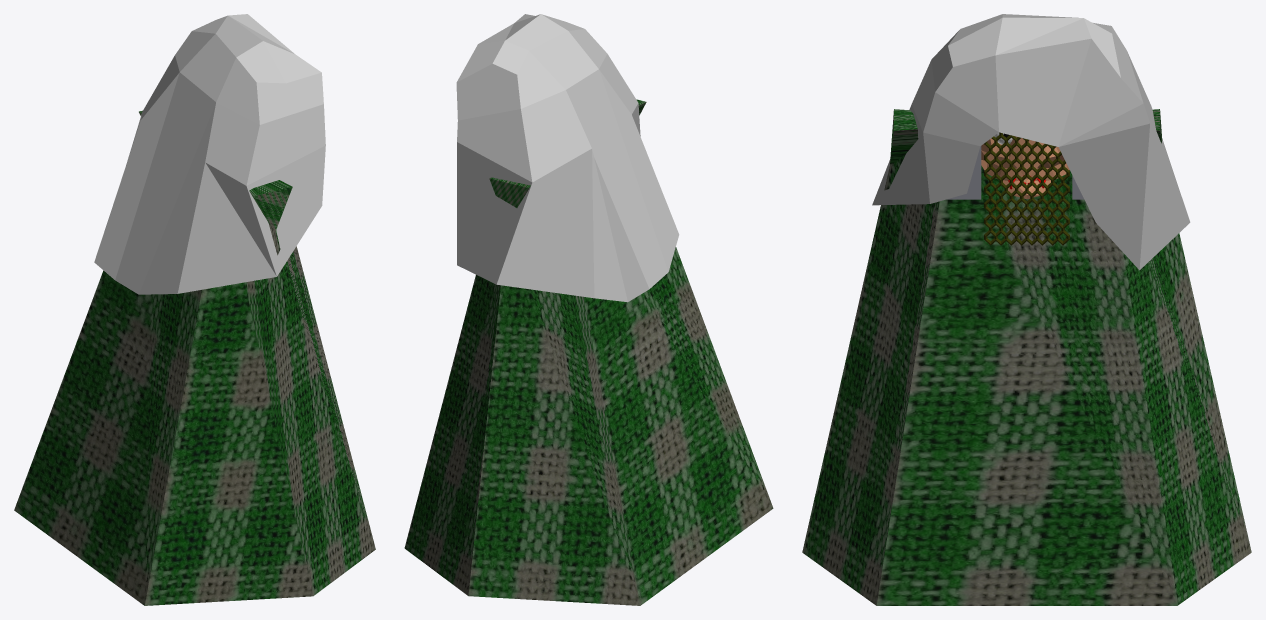
The model's file is Vieja.fbx.
The picture shows the model from 3 angles, left to right: view 1: azimuth 30°, elevation 25°; view 2: azimuth 150°, elevation 25°; view 3: azimuth 270°, elevation 25°; orthographic projection. The views are drawn at different scales.
Parts seen in each view (by area): view 1: Poncho, Gorro; view 2: Poncho, Gorro; view 3: Poncho, Gorro, Reja, Cabeza, Pelo.
Boxes of the visible parts, bbox=[...] form: Poncho: bbox=[14, 110, 375, 605]; Gorro: bbox=[94, 14, 325, 294]; Poncho: bbox=[404, 99, 773, 605]; Gorro: bbox=[456, 14, 679, 302]; Poncho: bbox=[802, 109, 1251, 605]; Gorro: bbox=[872, 14, 1190, 270]; Reja: bbox=[984, 132, 1069, 245]; Cabeza: bbox=[981, 136, 1069, 199]; Pelo: bbox=[946, 146, 1084, 199].
Bounding box in the file's own units: 1272 × 2536 × 1859.
